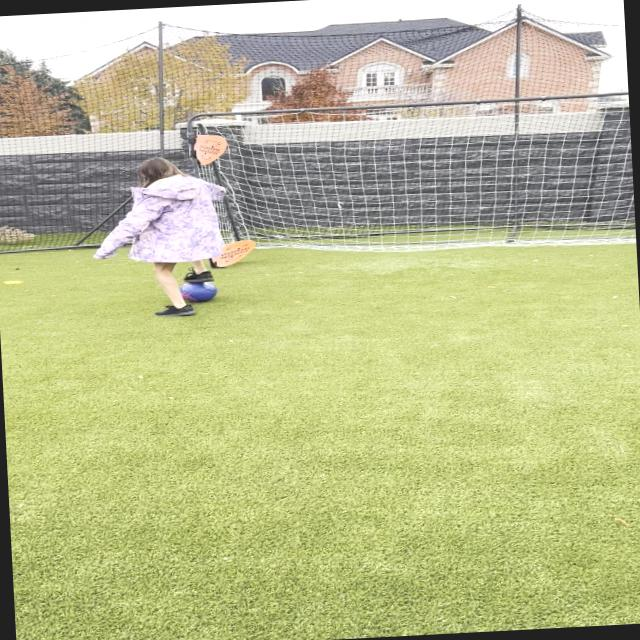Soccer Ball: (176, 281, 219, 306)
